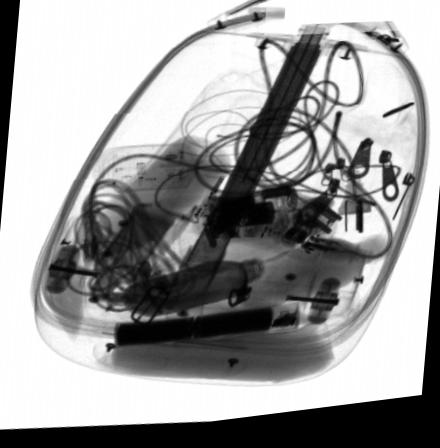Powerbank: (89, 205, 175, 299)
